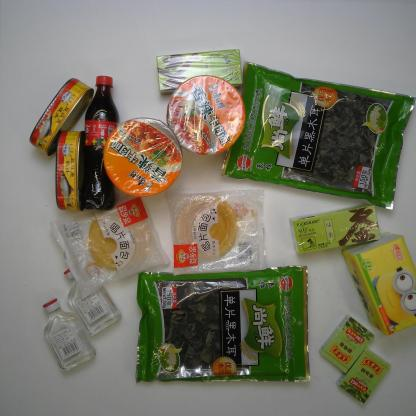Alcohol: (40, 296, 98, 374), (62, 263, 122, 336)
Candy: (318, 314, 376, 374), (336, 348, 392, 404)
Canned Food: (28, 76, 93, 156), (54, 129, 83, 214)
Dessert: (48, 195, 170, 300), (166, 190, 272, 276)
Dried Food: (218, 59, 414, 211), (135, 264, 311, 385)
Drink: (80, 74, 121, 211)
Instant Drink: (288, 203, 382, 255), (156, 46, 244, 95)
Instant Noodles: (166, 76, 246, 158), (102, 118, 182, 196)
Tissue: (341, 231, 414, 336)
